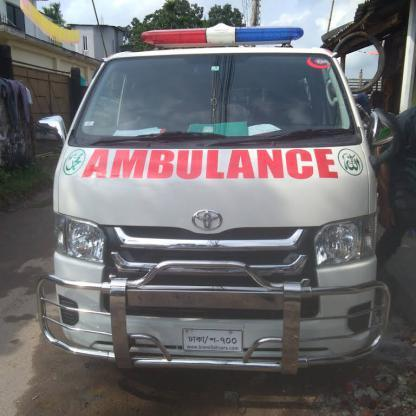Ambulance - v1 Ambulance last generate: (50, 34, 393, 373)
